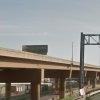Bridge: (3, 31, 95, 89)
